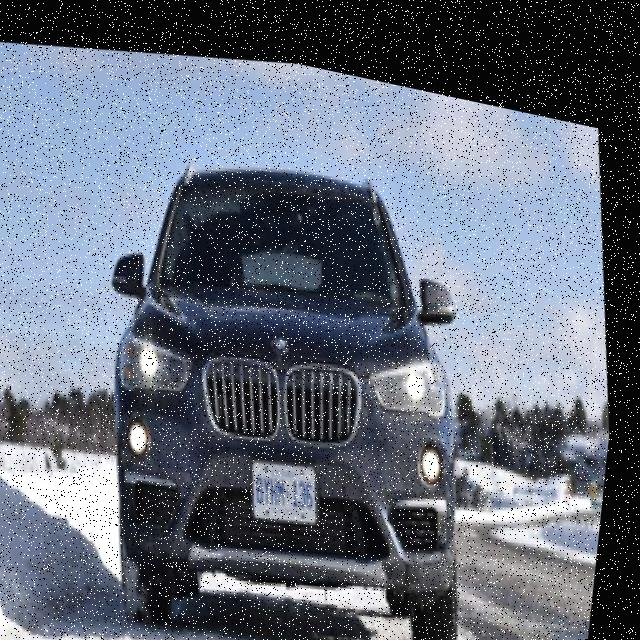license_plate: (255, 438, 330, 515)
